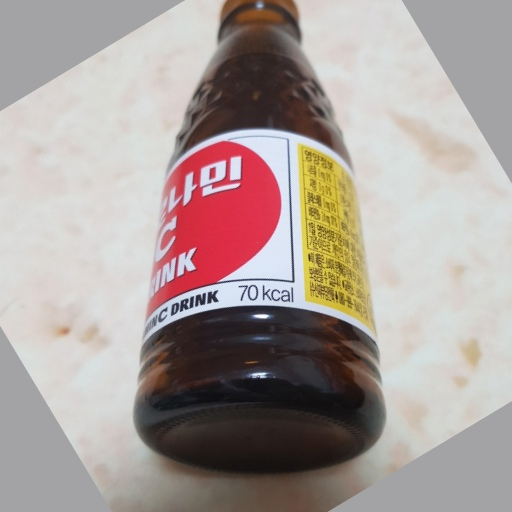Glass_3: (132, 2, 386, 470)
